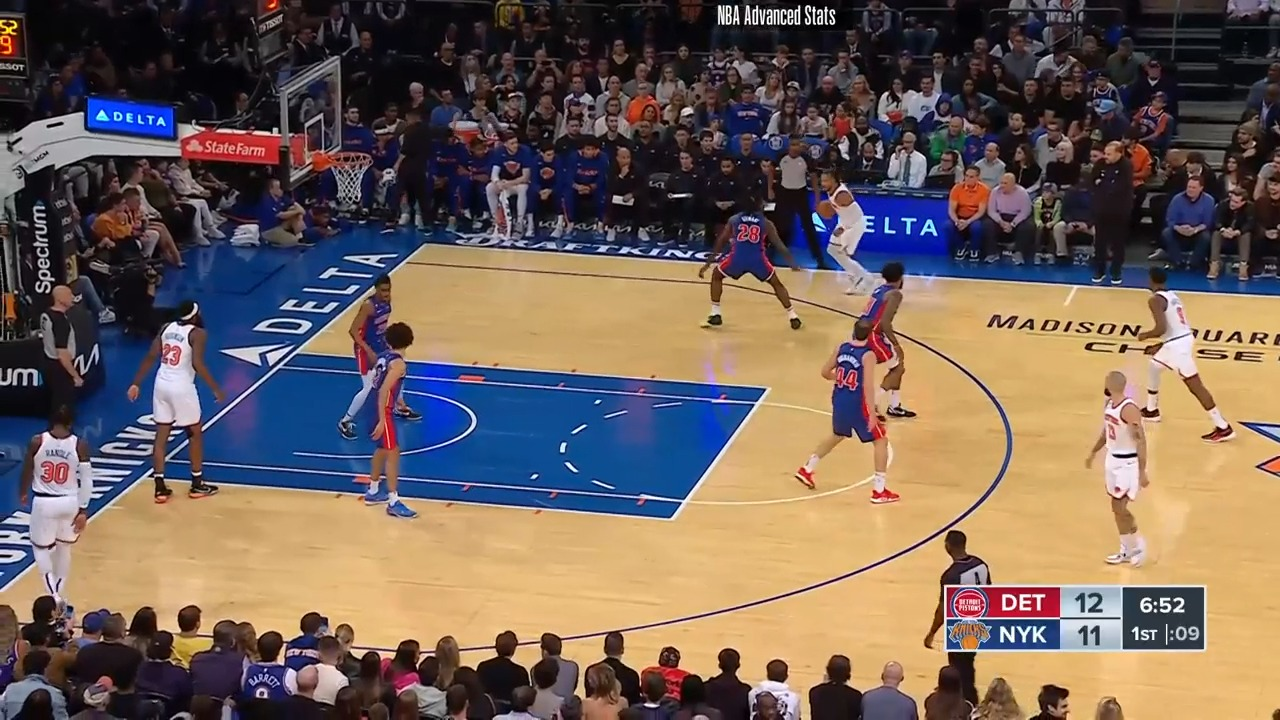net: (312, 143, 377, 207)
player: (797, 318, 902, 506), (129, 295, 220, 505), (1128, 267, 1229, 447), (1083, 371, 1159, 576), (17, 396, 86, 618), (363, 320, 436, 521), (697, 189, 798, 329), (849, 259, 918, 416), (335, 272, 396, 444), (813, 165, 875, 297)
referee: (765, 136, 821, 276)
